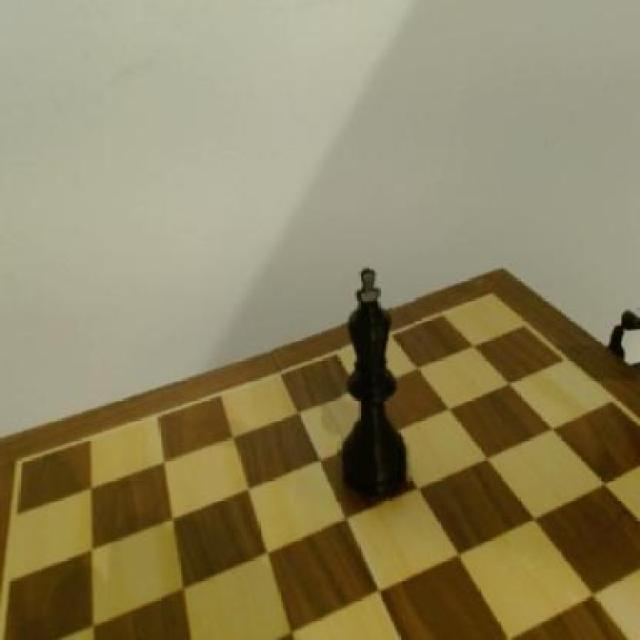black-bishop: (338, 260, 416, 504)
